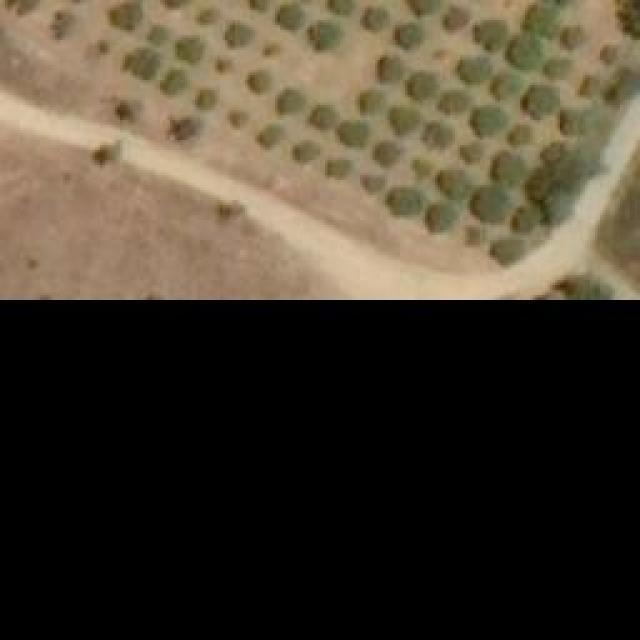Tree: (548, 145, 598, 185), (560, 273, 614, 302), (475, 185, 515, 223), (118, 48, 161, 83), (385, 188, 425, 223), (485, 153, 525, 188), (435, 170, 473, 203), (505, 35, 540, 70), (520, 0, 555, 35), (607, 65, 635, 108), (470, 18, 505, 51), (103, 3, 138, 33), (470, 105, 505, 135), (223, 20, 256, 50), (425, 120, 458, 150), (617, 0, 640, 40), (388, 105, 418, 135), (563, 100, 588, 135), (173, 35, 203, 63), (310, 22, 340, 50), (310, 102, 340, 130), (395, 20, 425, 48), (458, 55, 488, 83), (408, 72, 438, 100), (425, 205, 455, 233), (522, 85, 550, 115), (438, 90, 471, 115), (375, 55, 403, 83), (323, 160, 356, 183), (535, 55, 568, 78), (245, 68, 275, 93), (490, 238, 520, 263), (515, 203, 540, 233), (580, 70, 605, 100), (193, 85, 218, 113), (275, 90, 303, 115), (352, 90, 380, 115), (372, 143, 400, 168), (50, 8, 70, 41), (168, 118, 201, 138), (162, 73, 190, 96), (278, 2, 301, 30), (357, 173, 385, 196), (492, 73, 520, 96), (323, 0, 358, 18), (338, 123, 363, 148), (558, 25, 583, 50), (598, 40, 623, 65), (528, 173, 548, 203), (363, 5, 386, 30), (253, 125, 278, 148), (295, 140, 320, 163), (445, 8, 470, 31), (410, 0, 438, 18), (93, 145, 116, 165), (413, 155, 433, 178), (510, 123, 533, 143), (230, 110, 250, 130), (463, 140, 483, 160), (150, 22, 170, 40), (198, 7, 218, 25), (212, 55, 230, 75), (112, 102, 130, 120), (465, 227, 483, 245), (95, 37, 110, 55), (262, 43, 280, 58)
